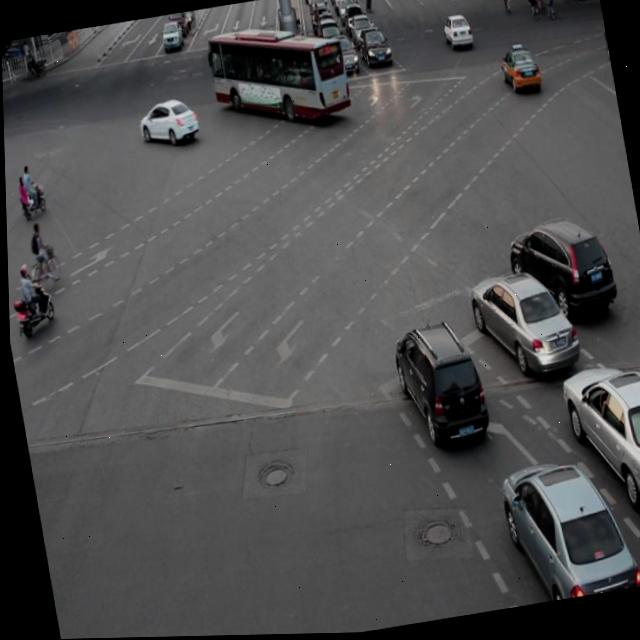car: (493, 451, 637, 609), (554, 356, 640, 529), (464, 264, 579, 383), (386, 318, 488, 449), (503, 211, 616, 326), (136, 96, 201, 148), (497, 44, 540, 97)
van: (208, 18, 352, 135)
